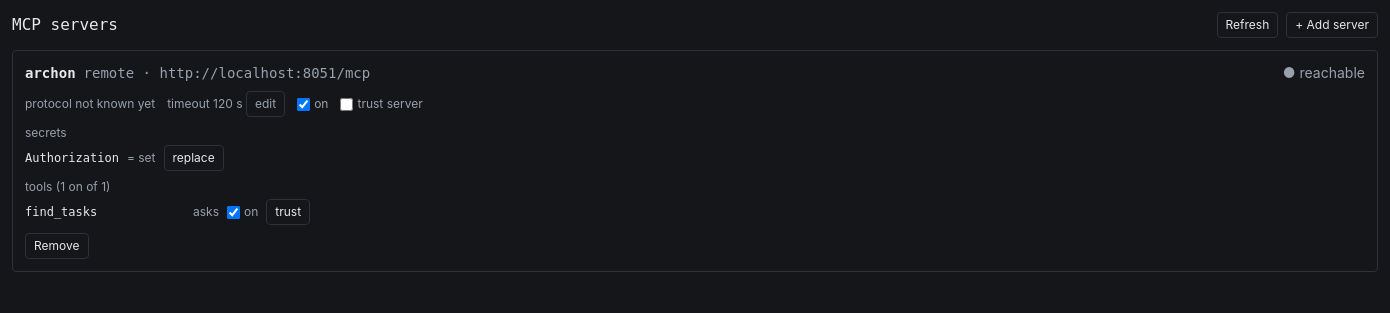
Test: shows a 404 reason next to the control and refreshes
Click the checkbox named "trust archon" at (347, 104), box [340,98,354,110]
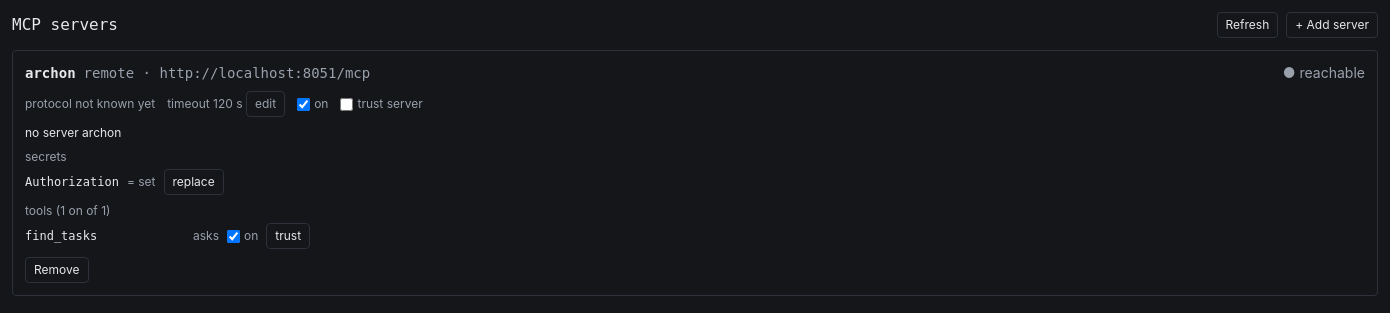
Expected: the text "no server archon" is shown, [25,125,121,140]
